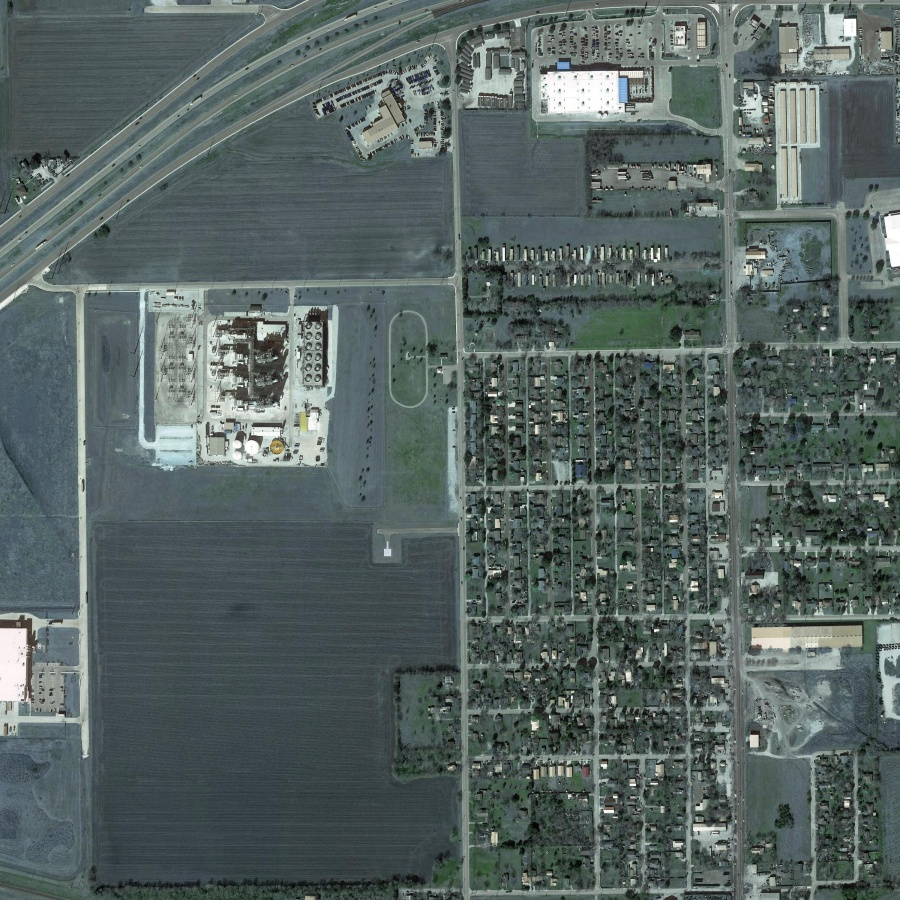PowerPlant: (141, 284, 335, 473)
